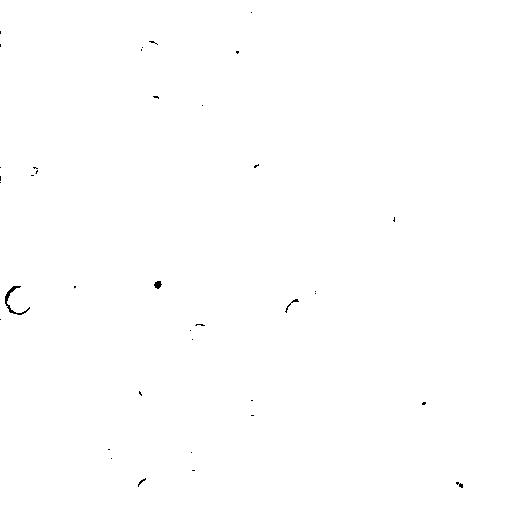micro-algae: (265, 0, 335, 26), (237, 0, 277, 32), (139, 268, 175, 300), (401, 380, 435, 413), (2, 282, 35, 315), (461, 41, 490, 76), (229, 195, 263, 224), (438, 466, 470, 496), (432, 446, 465, 475), (183, 11, 215, 39), (21, 12, 46, 47), (301, 278, 330, 304), (369, 443, 396, 470), (1, 347, 26, 374), (47, 435, 69, 465), (137, 38, 163, 62), (381, 0, 406, 24), (179, 448, 205, 471), (222, 39, 249, 61), (135, 475, 161, 497), (265, 413, 288, 437), (395, 96, 419, 119), (275, 391, 300, 413), (285, 296, 310, 318), (328, 295, 351, 318), (241, 395, 266, 416), (91, 445, 117, 464), (188, 323, 211, 343), (391, 210, 411, 233), (137, 378, 159, 398), (415, 149, 434, 171), (199, 98, 219, 117), (178, 111, 195, 131), (363, 0, 397, 10), (148, 325, 168, 341), (167, 1, 192, 13), (21, 163, 42, 177), (81, 414, 97, 432), (1, 29, 13, 53), (253, 161, 269, 177), (82, 499, 101, 512), (130, 314, 145, 329), (62, 277, 77, 291), (433, 0, 463, 7)
